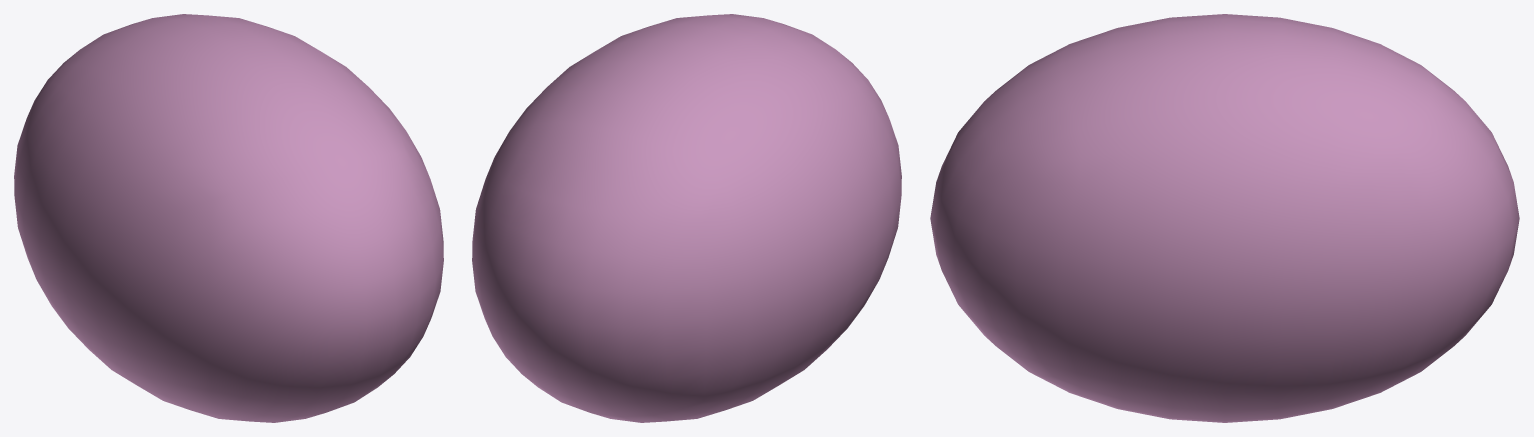
3 renders of one model, left to right at view 1: azimuth 30°, elevation 25°; view 2: azimuth 150°, elevation 25°; view 3: azimuth 270°, elevation 25°, orthographic. The views are drawn at different scales.
Visible parts, largest first — view 1: 左侧展神经核; view 2: 左侧展神经核; view 3: 左侧展神经核.
Part boxes in pixels (x1,y1,x2,y2): 左侧展神经核: (14, 14, 443, 422); 左侧展神经核: (472, 14, 901, 422); 左侧展神经核: (930, 14, 1519, 422).
Size of the model in its own units: 0.00237 by 0.00237 by 0.0034.
